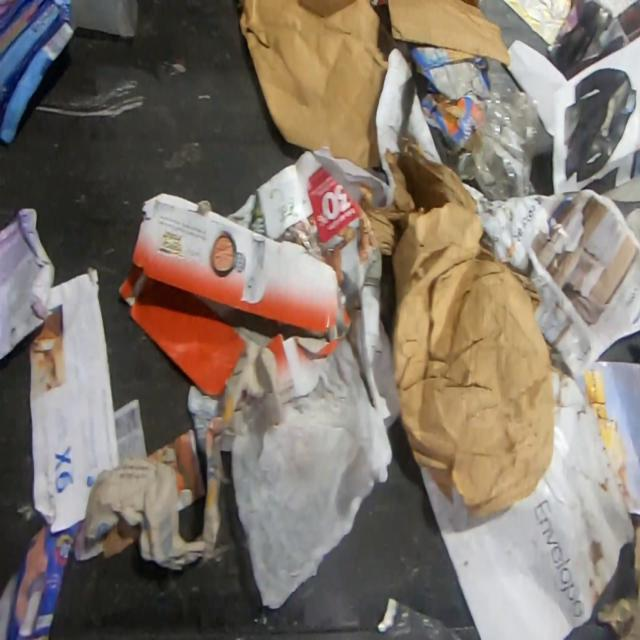cardboard: (114, 191, 353, 399), (237, 0, 396, 168), (0, 0, 76, 146), (404, 42, 489, 170), (0, 206, 57, 364), (386, 0, 512, 68)
soft_plastic: (452, 69, 554, 202), (375, 595, 464, 639)
